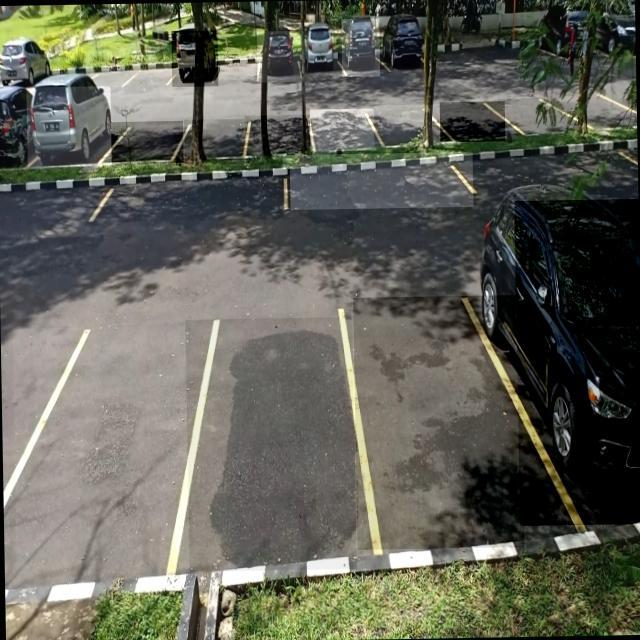empty: (185, 316, 356, 572), (353, 294, 524, 550), (12, 326, 188, 574), (282, 152, 473, 210), (92, 168, 290, 222), (111, 121, 184, 164), (309, 108, 376, 151), (374, 104, 441, 147), (245, 114, 312, 156), (439, 100, 505, 142), (184, 118, 249, 160), (122, 56, 172, 88), (213, 49, 260, 83)
occupied: (514, 198, 640, 525), (26, 86, 111, 167), (171, 30, 218, 87), (256, 30, 301, 82), (341, 18, 380, 76), (298, 30, 343, 80)
